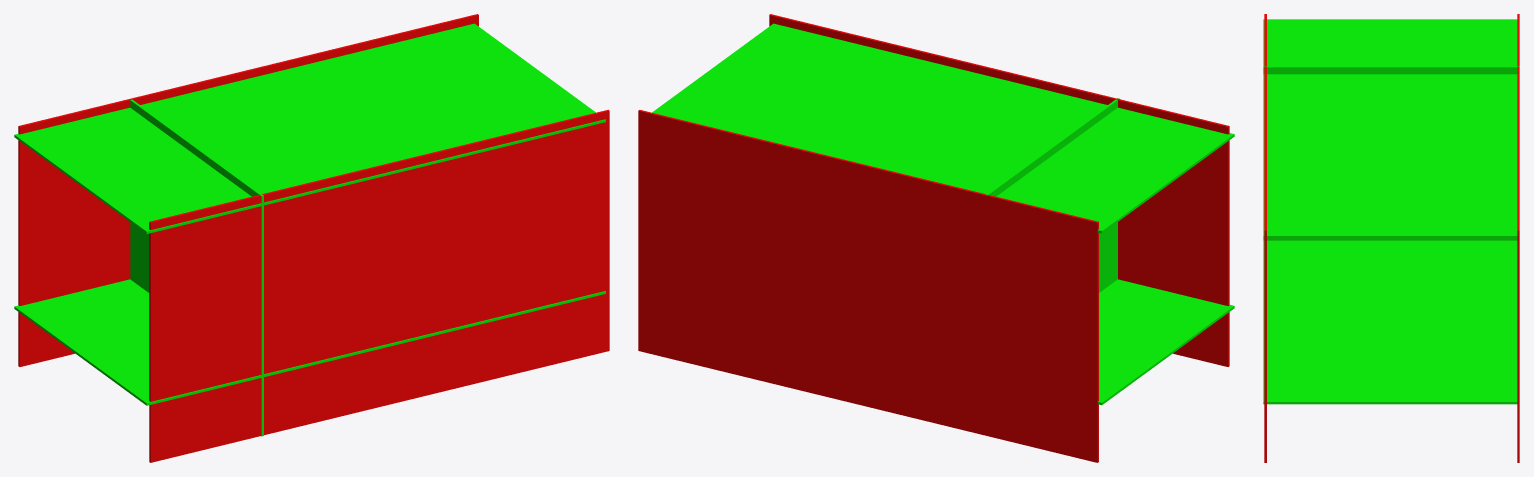
The model's file is abe.obj.
3 renders of one model, left to right at view 1: azimuth 30°, elevation 25°; view 2: azimuth 150°, elevation 25°; view 3: azimuth 270°, elevation 25°, orthographic. The views are drawn at different scales.
Visible parts, largest first — view 1: Cube.004, Cube, Cube.003, Cube.001, Cube.002; view 2: Cube.003, Cube, Cube.004, Cube.001, Cube.002; view 3: Cube, Cube.001, Cube.002, Cube.003, Cube.004.
Boxes of the visible parts, left/top/right/bottom form: Cube.004: left=149, top=109, right=609, bottom=462; Cube: left=14, top=23, right=605, bottom=233; Cube.003: left=18, top=14, right=478, bottom=366; Cube.001: left=14, top=279, right=605, bottom=405; Cube.002: left=130, top=99, right=263, bottom=436; Cube.003: left=638, top=110, right=1098, bottom=462; Cube: left=652, top=23, right=1234, bottom=233; Cube.004: left=769, top=14, right=1229, bottom=366; Cube.001: left=1097, top=279, right=1234, bottom=405; Cube.002: left=986, top=98, right=1119, bottom=292; Cube: left=1263, top=19, right=1517, bottom=238; Cube.001: left=1263, top=240, right=1517, bottom=404; Cube.002: left=1263, top=66, right=1519, bottom=240; Cube.003: left=1517, top=14, right=1519, bottom=462; Cube.004: left=1264, top=14, right=1266, bottom=462.
Size of the model in its own units: 40.38 by 20 by 20.02.
